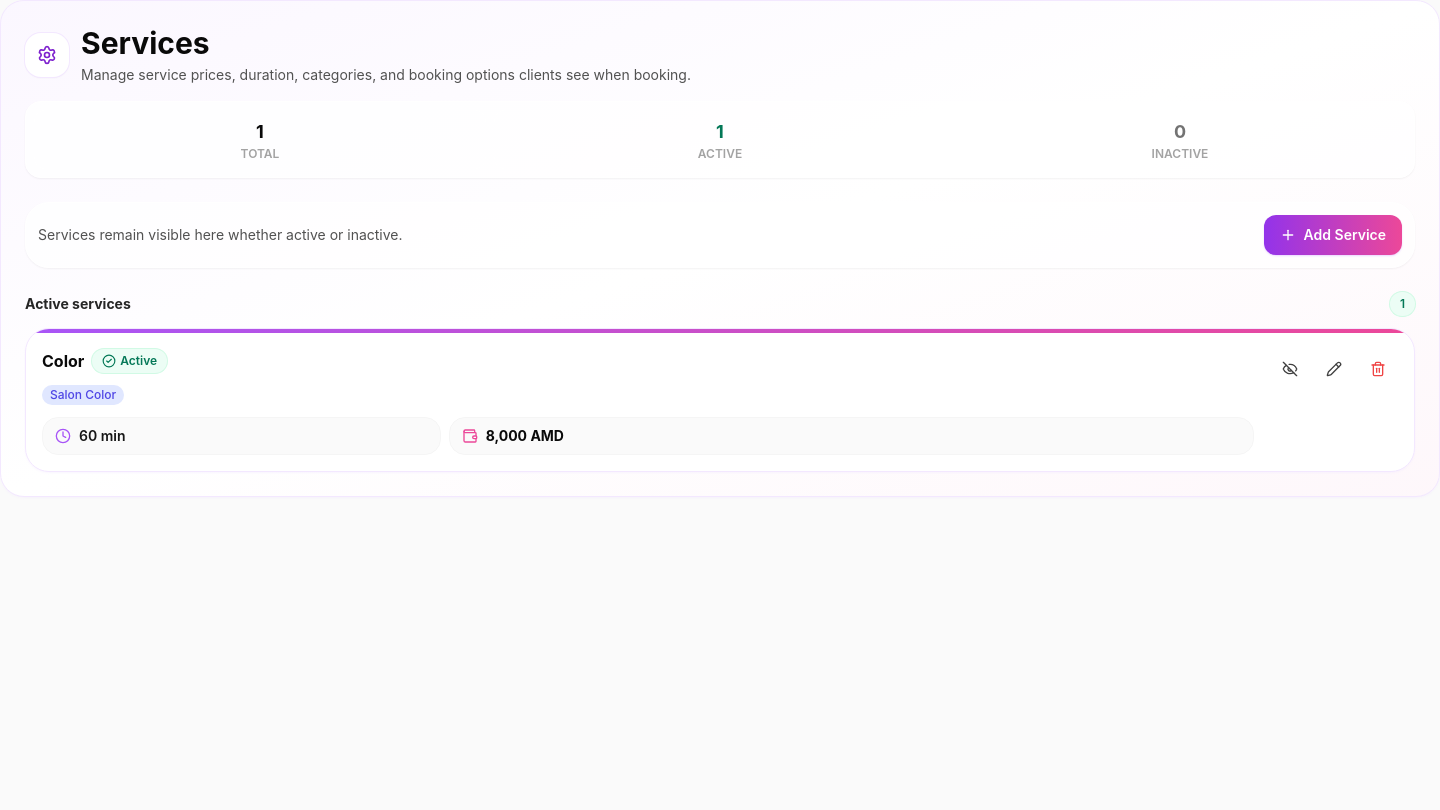
it: ServicesManager › editing retains an active salon category omitted from the barber-scoped list
Click the button titled "Edit" at (1334, 369), box [1314,349,1354,389]
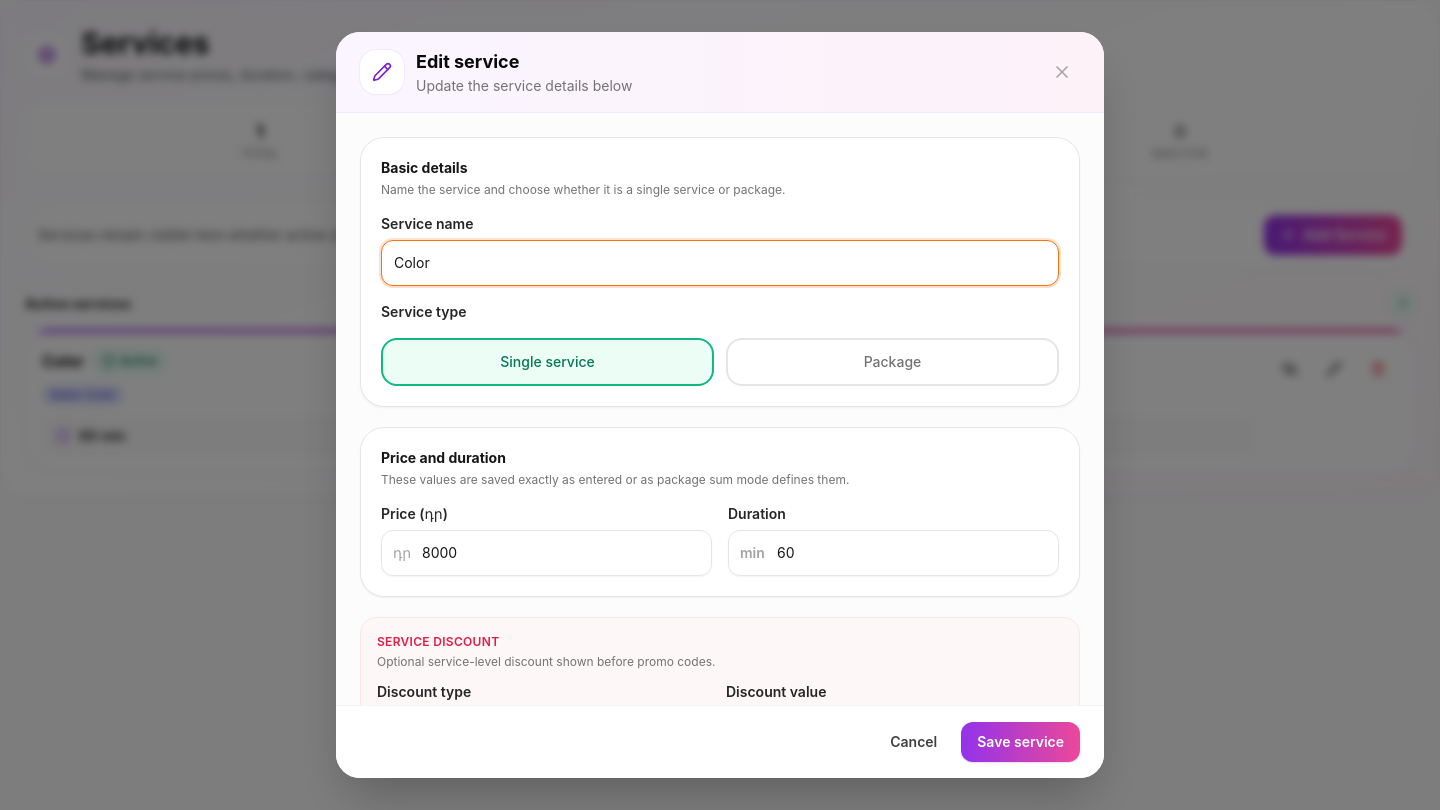
Replace the text in the field labelled "Service name" with "Salon Color Refresh" at (720, 263), box [381,240,1059,286]
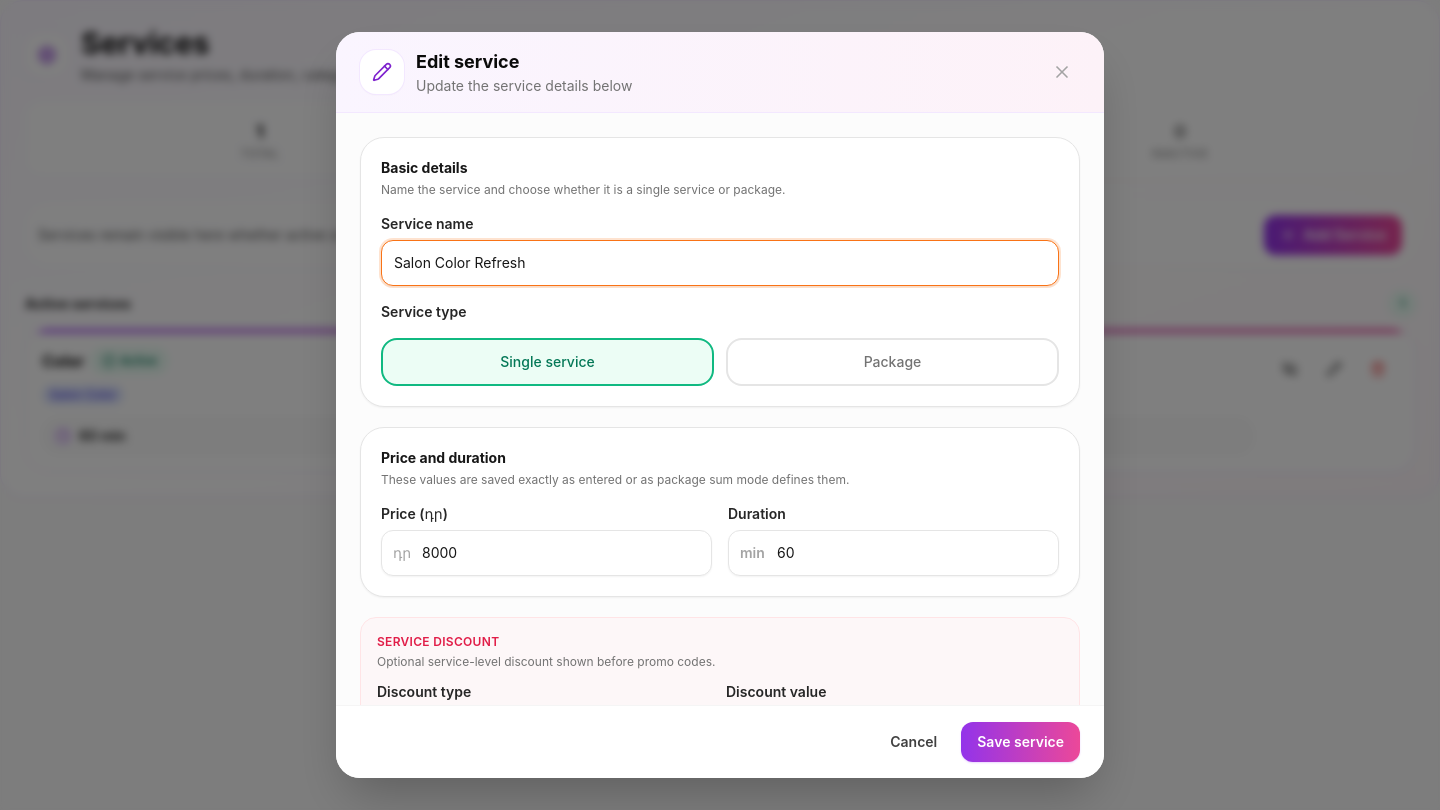
Click the button "Save service" at (1021, 742), box [961,722,1080,762]
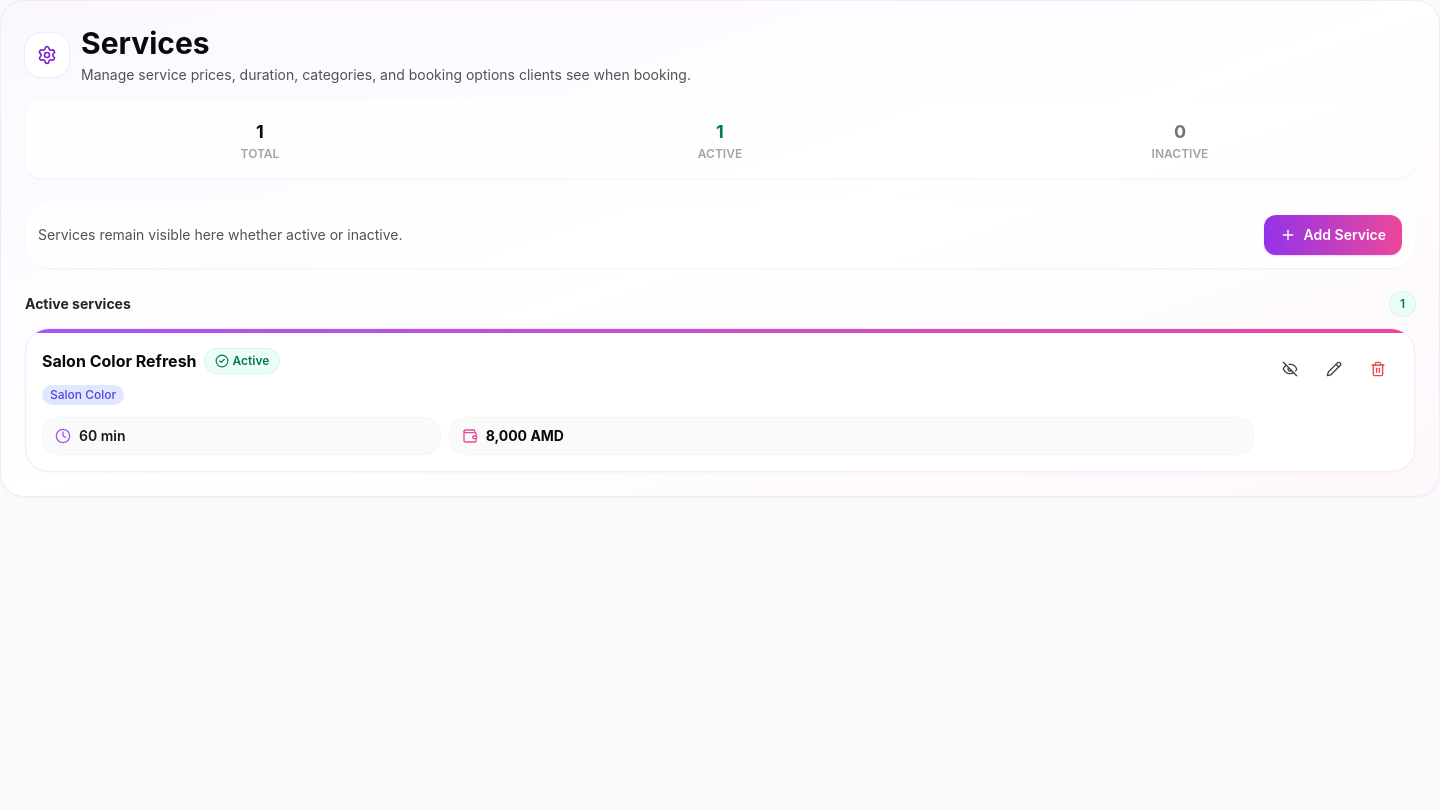
Now the heading "Salon Color Refresh" is shown, box [42,349,197,373]
